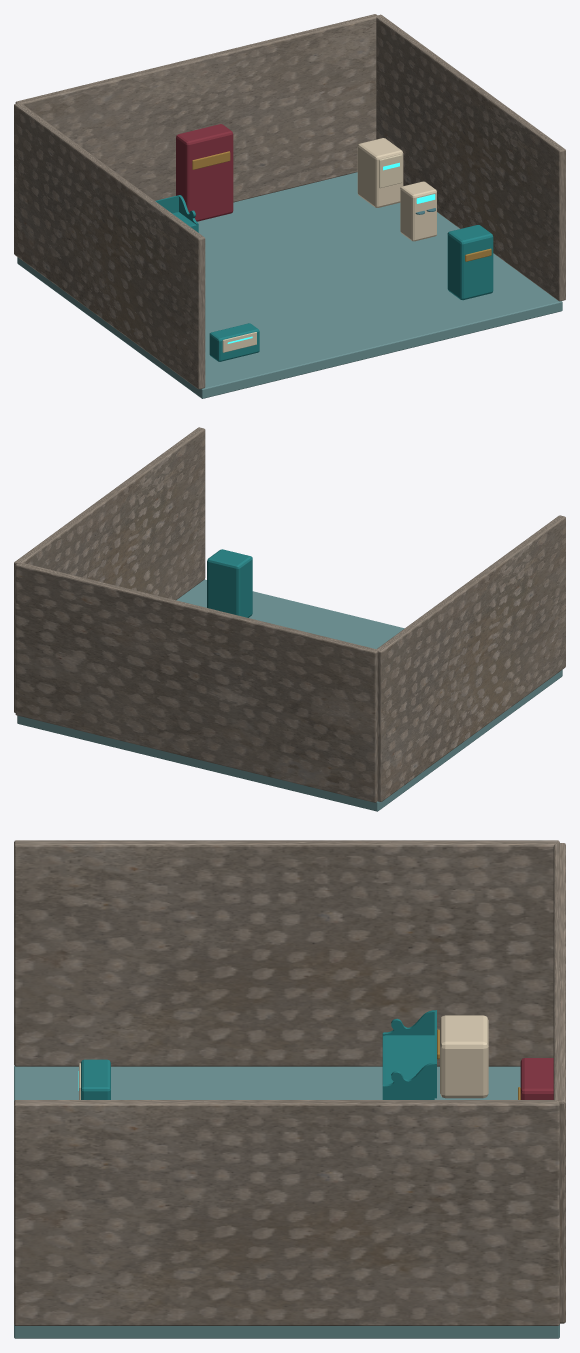
Rendered from location_apartment_lobby_v3.glb.
The picture shows the model from 3 angles, top to bottom: view 1: azimuth 30°, elevation 25°; view 2: azimuth 150°, elevation 25°; view 3: azimuth 270°, elevation 25°; orthographic projection. The views are drawn at different scales.
Visible parts, largest first — view 1: location_apartment_lobby_v3_FLOOR, location_apartment_lobby_v3_BACK, location_apartment_lobby_v3_LEFT, location_apartment_lobby_v3_RIGHT, ARCH_SERVICE_DOOR_BODY.001, STREET_PLANTER_BODY.001, INT_BUILDING_DIRECTORY_BODY.001, INT_VENDING_MACHINE_BODY.001, STREET_NEWSPAPER_BOX_BODY.001, painted_wooden_bench.001, INT_BUILDING_DIRECTORY_FACE.001; view 2: location_apartment_lobby_v3_BACK, location_apartment_lobby_v3_LEFT, location_apartment_lobby_v3_RIGHT, location_apartment_lobby_v3_FLOOR, STREET_PLANTER_BODY.001; view 3: location_apartment_lobby_v3_RIGHT, location_apartment_lobby_v3_LEFT, location_apartment_lobby_v3_FLOOR, location_apartment_lobby_v3_BACK, painted_wooden_bench.001, INT_MAILBOX_BANK_BODY.001, ARCH_SERVICE_DOOR_BODY.001, STREET_NEWSPAPER_BOX_BODY.001.
Boxes of the visible parts, x1,y1,x2,y2 form: location_apartment_lobby_v3_FLOOR: (17, 172, 562, 398); location_apartment_lobby_v3_BACK: (15, 14, 377, 202); location_apartment_lobby_v3_LEFT: (14, 103, 205, 389); location_apartment_lobby_v3_RIGHT: (376, 14, 565, 301); ARCH_SERVICE_DOOR_BODY.001: (176, 124, 233, 221); STREET_PLANTER_BODY.001: (447, 225, 493, 300); INT_BUILDING_DIRECTORY_BODY.001: (357, 138, 403, 207); INT_VENDING_MACHINE_BODY.001: (400, 181, 436, 241); STREET_NEWSPAPER_BOX_BODY.001: (209, 323, 259, 361); painted_wooden_bench.001: (155, 195, 198, 232); INT_BUILDING_DIRECTORY_FACE.001: (379, 154, 402, 188); location_apartment_lobby_v3_BACK: (15, 562, 377, 802); location_apartment_lobby_v3_LEFT: (377, 515, 565, 801); location_apartment_lobby_v3_RIGHT: (14, 427, 205, 712); location_apartment_lobby_v3_FLOOR: (17, 579, 562, 811); STREET_PLANTER_BODY.001: (207, 549, 252, 617); location_apartment_lobby_v3_RIGHT: (14, 1100, 559, 1325); location_apartment_lobby_v3_LEFT: (14, 840, 559, 1066); location_apartment_lobby_v3_FLOOR: (14, 1066, 559, 1338); location_apartment_lobby_v3_BACK: (553, 843, 565, 1323); painted_wooden_bench.001: (382, 1010, 436, 1099); INT_MAILBOX_BANK_BODY.001: (440, 1015, 488, 1098); ARCH_SERVICE_DOOR_BODY.001: (520, 1058, 553, 1099); STREET_NEWSPAPER_BOX_BODY.001: (81, 1059, 110, 1099).
Size of the model in its own units: 9.18 by 3.84 by 8.09.
Materials: 10 (1 with a texture image).
